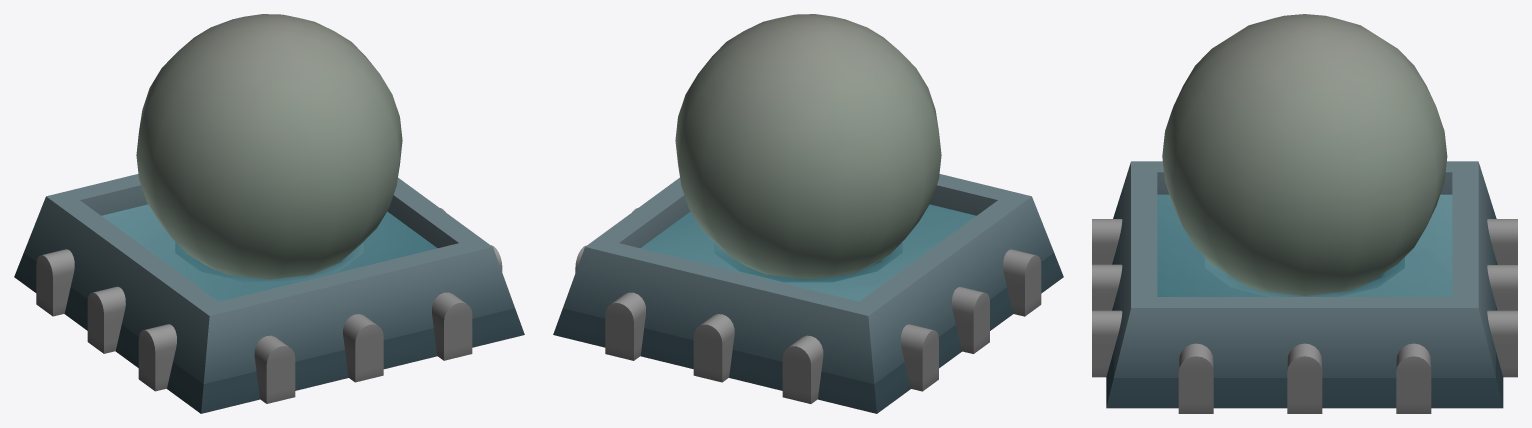
Rendered from OBJ_GiantPearl.fbx.
3 renders of one model, left to right at view 1: azimuth 30°, elevation 25°; view 2: azimuth 150°, elevation 25°; view 3: azimuth 270°, elevation 25°, orthographic. The views are drawn at different scales.
Visible parts, largest first — view 1: OBJ_Pearl; view 2: OBJ_Pearl; view 3: OBJ_Pearl.
Boxes of the visible parts, box(x1,y1,x2,y2) form: OBJ_Pearl: box(14, 14, 524, 413); OBJ_Pearl: box(553, 14, 1063, 413); OBJ_Pearl: box(1092, 14, 1517, 413).
Bounding box in the file's own units: 58.85 × 45.33 × 58.85.
